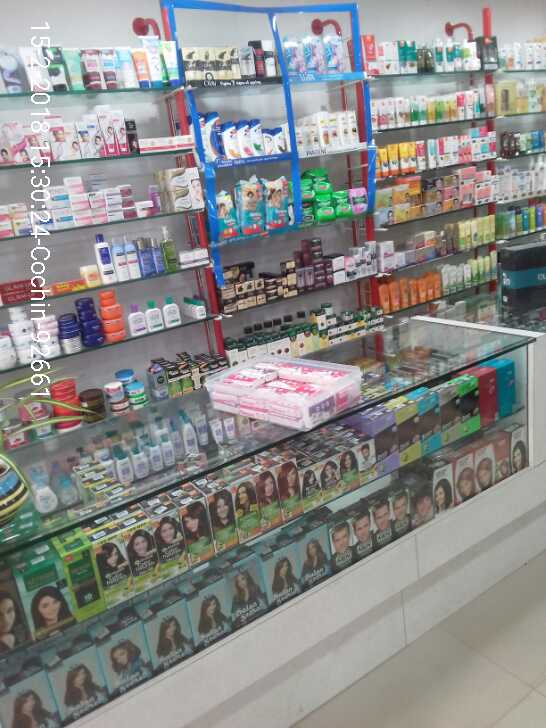venus: (306, 37, 328, 71), (328, 35, 348, 71), (287, 37, 306, 68)
